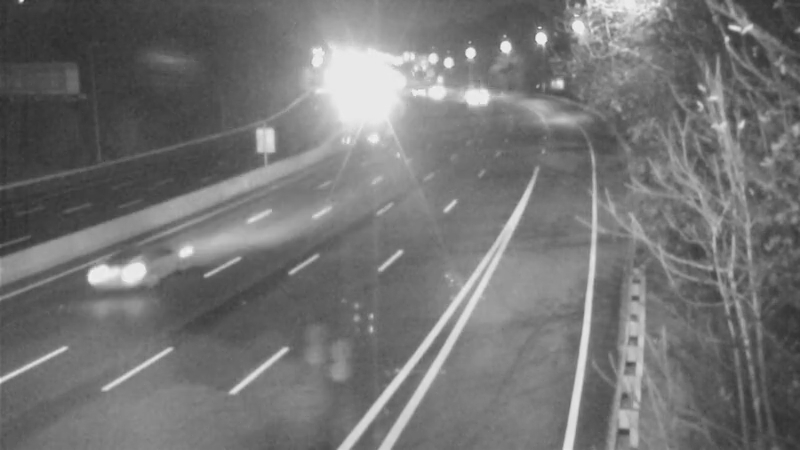vehicle: (72, 224, 152, 304), (455, 73, 505, 123)
